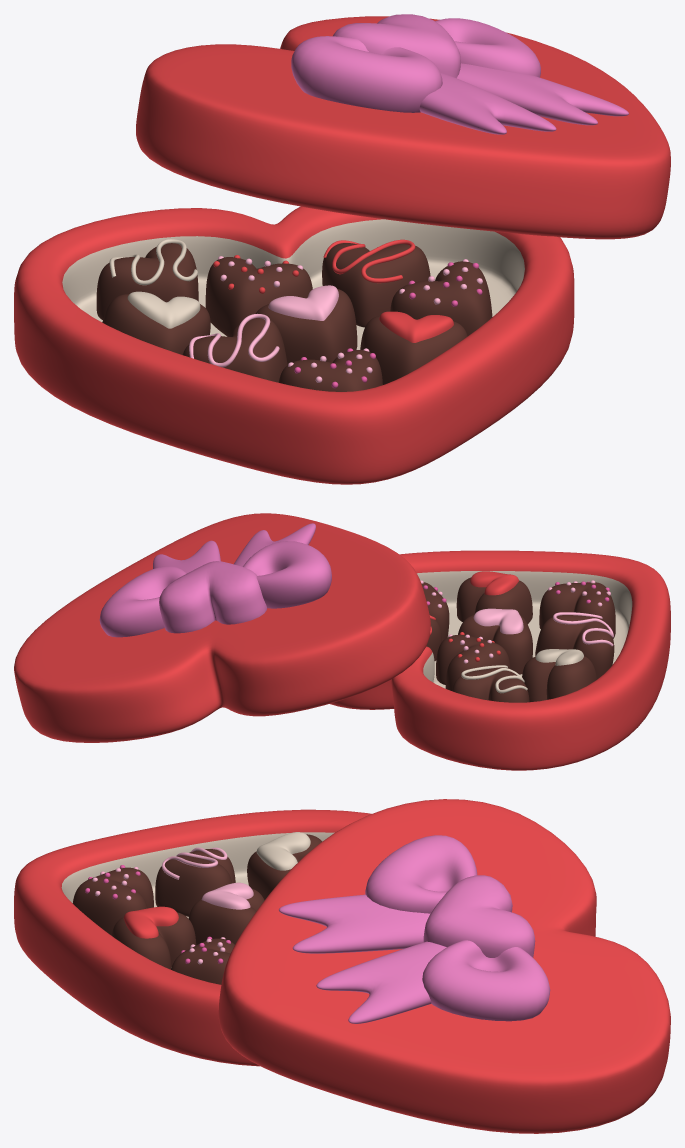
File: chocolate.glb
The picture shows the model from 3 angles, top to bottom: view 1: azimuth 30°, elevation 25°; view 2: azimuth 150°, elevation 25°; view 3: azimuth 270°, elevation 25°; orthographic projection. The views are drawn at different scales.
Visible parts, largest first — view 1: Heart Box Base, Heart Box Top, Ribbon, Heart Chocolate Icing.001, Heart Chocolate Sprinkles, Heart Chocolate Sprinkles.001, Heart Chocolate Icing, Heart Chocolate Filling.001, Heart Chocolate Icing.002, Heart Chocolate Filling.002, Heart Chocolate Filling, Heart Chocolate Sprinkles.002 (+6 smaller); view 2: Heart Box Top, Heart Box Base, Ribbon, Heart Chocolate Icing.002, Heart Chocolate Filling, Heart Chocolate Sprinkles, Heart Chocolate Sprinkles.002, Heart Chocolate Filling.002, Heart Chocolate Icing, Heart Chocolate Filling.001, Heart Chocolate.001, Heart Chocolate.002 (+4 smaller); view 3: Heart Box Top, Ribbon, Heart Box Base, Heart Chocolate Sprinkles.002, Heart Chocolate Icing.002, Heart Chocolate Filling.002, Heart Chocolate Filling.001, Heart Chocolate Sprinkles.001, Heart Chocolate.003, Heart Chocolate Filling, Heart Chocolate.002, Heart Chocolate.001 (+1 smaller).
Boxes of the visible parts, x1,y1,x2,y2 form: Heart Box Base: (14,206,574,484); Heart Box Top: (136,16,670,239); Ribbon: (291,14,628,134); Heart Chocolate Icing.001: (322,243,430,327); Heart Chocolate Sprinkles: (205,257,312,336); Heart Chocolate Sprinkles.001: (390,261,492,335); Heart Chocolate Icing: (96,243,198,319); Heart Chocolate Filling.001: (255,289,357,364); Heart Chocolate Icing.002: (183,318,287,382); Heart Chocolate Filling.002: (360,316,467,384); Heart Chocolate Filling: (102,294,210,354); Heart Chocolate Sprinkles.002: (278,350,382,391); Heart Box Top: (14,513,430,742); Heart Box Base: (330,550,670,770); Ribbon: (99,523,331,637); Heart Chocolate Icing.002: (535,615,614,679); Heart Chocolate Filling: (522,656,596,701); Heart Chocolate Sprinkles: (436,634,510,690); Heart Chocolate Sprinkles.002: (539,582,615,638); Heart Chocolate Filling.002: (456,577,532,624); Heart Chocolate Icing: (452,667,529,702); Heart Chocolate Filling.001: (458,614,532,674); Heart Chocolate.001: (473,608,523,634); Heart Chocolate.002: (470,571,518,595); Heart Box Top: (218,799,670,1133); Ribbon: (279,835,550,1023); Heart Box Base: (14,809,371,1066); Heart Chocolate Sprinkles.002: (72,867,153,935); Heart Chocolate Icing.002: (155,849,235,916); Heart Chocolate Filling.002: (111,912,196,969); Heart Chocolate Filling.001: (188,888,264,944); Heart Chocolate Sprinkles.001: (171,938,234,984); Heart Chocolate.003: (256,832,310,870); Heart Chocolate Filling: (247,834,322,899); Heart Chocolate.002: (123,906,178,938); Heart Chocolate.001: (201,882,253,909).
Bounding box in the file's own units: 1.17 × 0.3523 × 1.17.
